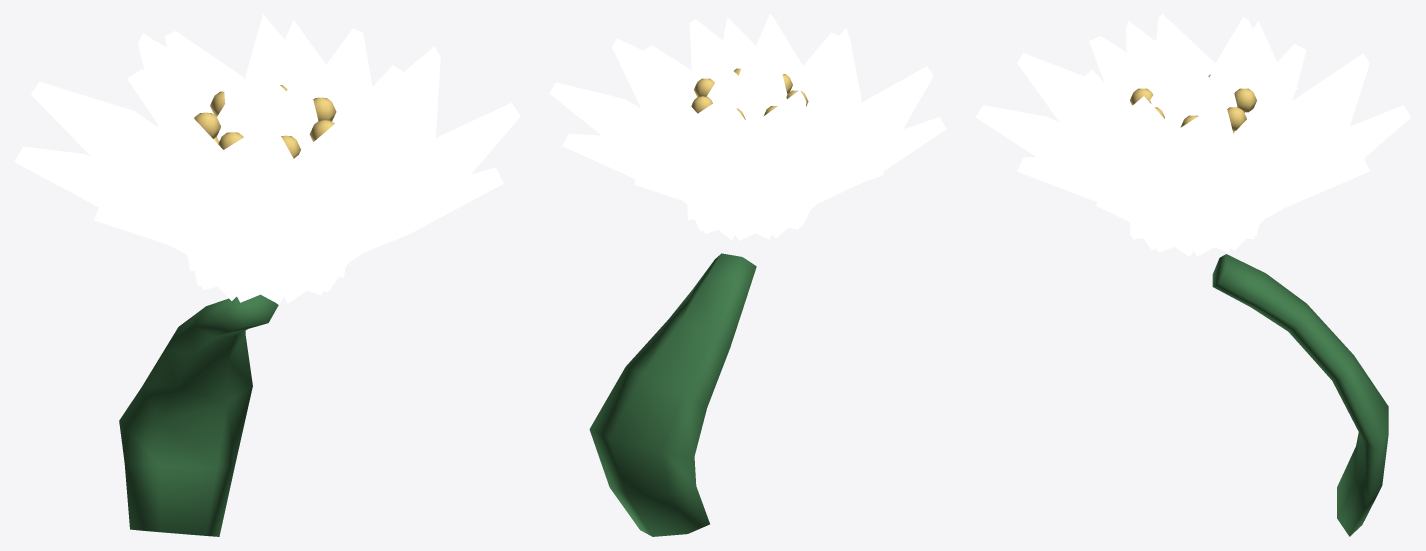
File: wijayakusuma.glb
3 renders of one model, left to right at view 1: azimuth 30°, elevation 25°; view 2: azimuth 150°, elevation 25°; view 3: azimuth 270°, elevation 25°, orthographic. The views are drawn at different scales.
Parts seen in each view (by area): view 1: wijayakusuma_mesh; view 2: wijayakusuma_mesh; view 3: wijayakusuma_mesh.
Part boxes in pixels (bbox=[...]): wijayakusuma_mesh: bbox=[14, 14, 520, 536]; wijayakusuma_mesh: bbox=[549, 14, 946, 536]; wijayakusuma_mesh: bbox=[975, 14, 1411, 536].
Bounding box in the file's own units: 0.3187 × 0.3918 × 0.3351.
